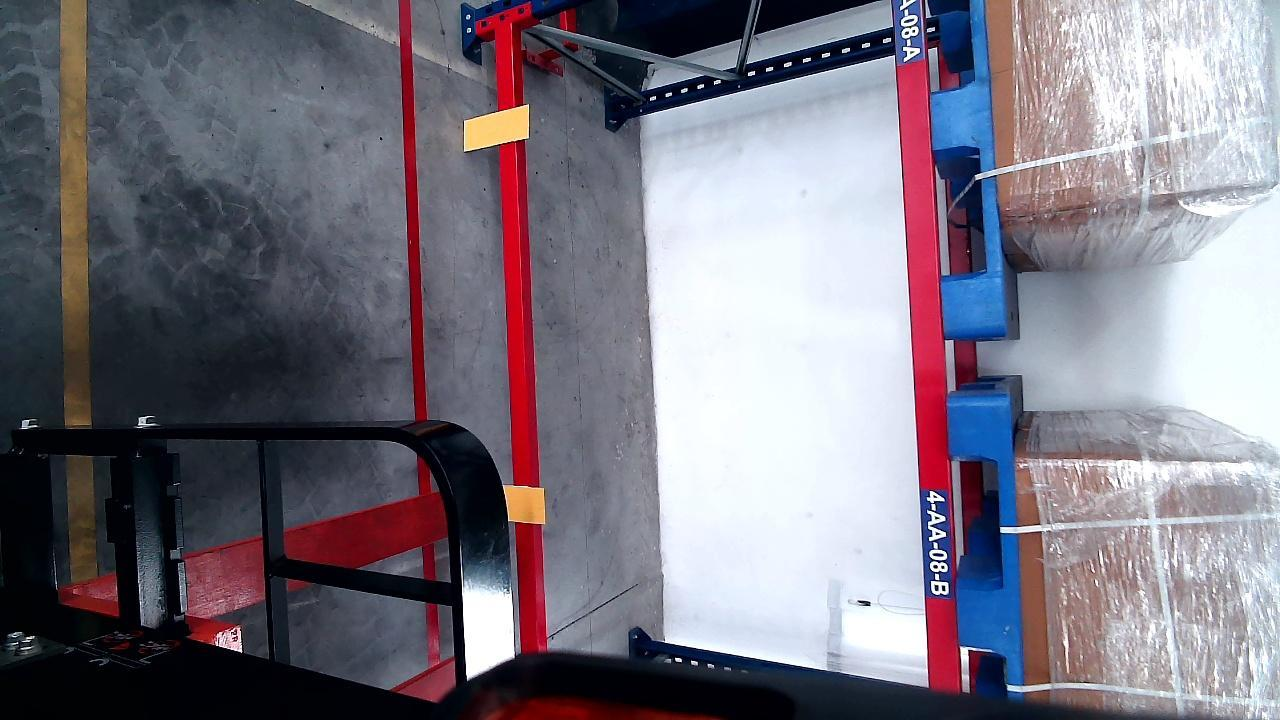red_line: (397, 0, 432, 430)
yellow_line: (59, 1, 93, 419)
